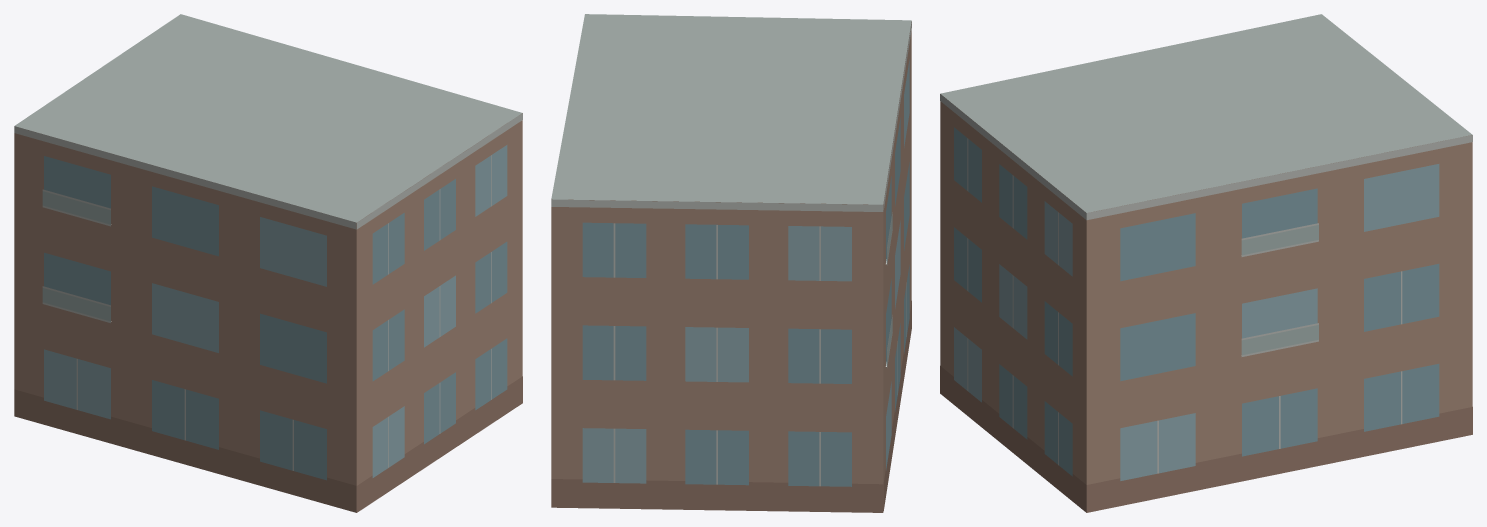
Rendered from survey-upis-32738547.glb.
The picture shows the model from 3 angles, left to right: view 1: azimuth 30°, elevation 25°; view 2: azimuth 150°, elevation 25°; view 3: azimuth 270°, elevation 25°; orthographic projection. The views are drawn at different scales.
Visible parts, largest first — view 1: survey-upis-32738547.tmp; view 2: survey-upis-32738547.tmp; view 3: survey-upis-32738547.tmp.
Boxes of the visible parts, box(x1,y1,x2,y2) form: survey-upis-32738547.tmp: box(14, 14, 522, 512); survey-upis-32738547.tmp: box(551, 14, 911, 512); survey-upis-32738547.tmp: box(940, 14, 1472, 512).
Size of the model in its own units: 14.39 by 10.1 by 16.27.
